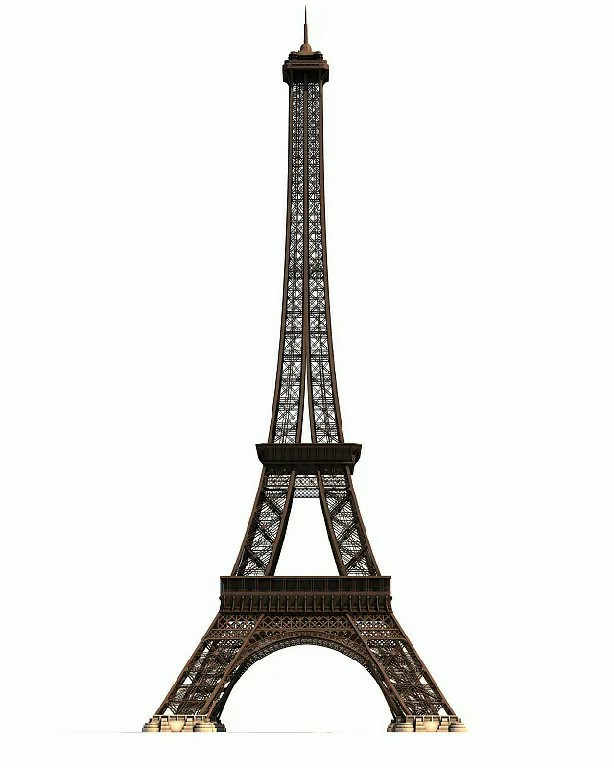Eiffel: (141, 5, 465, 733)
